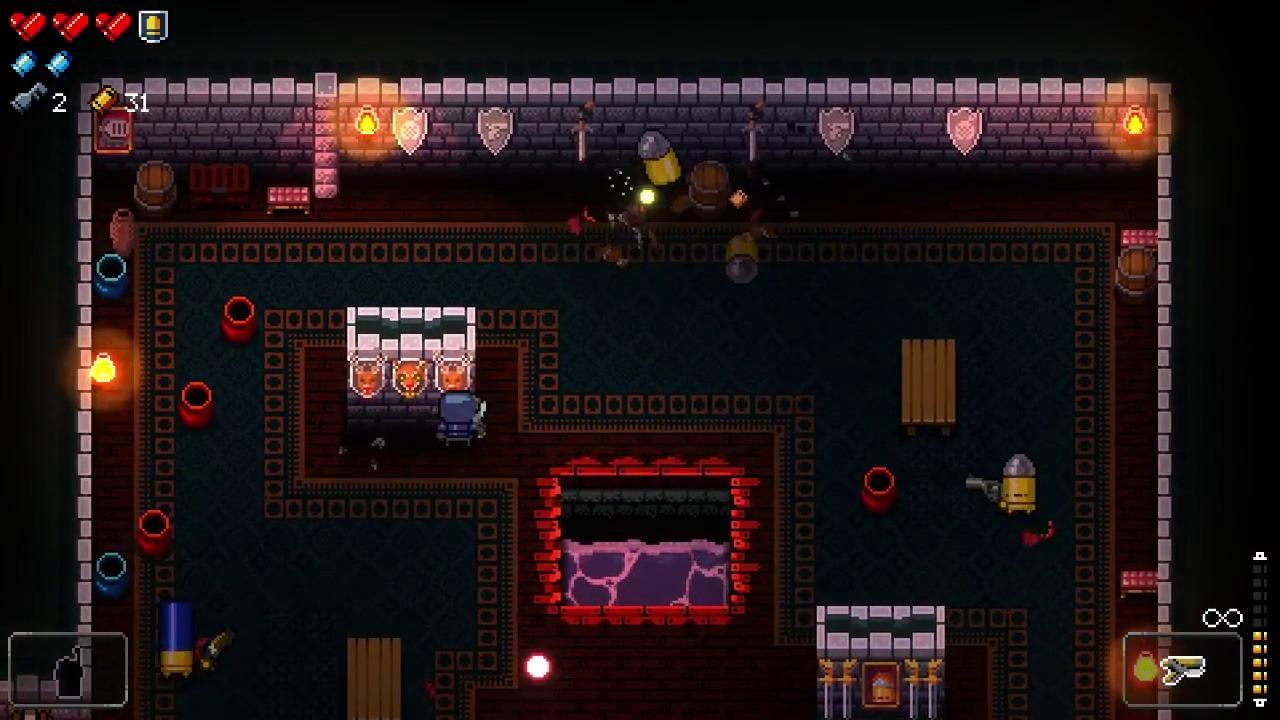blue_shotgun_kin: (158, 599, 196, 679)
bullet: (526, 652, 554, 682)
bullet_kin: (637, 130, 683, 186), (1002, 453, 1038, 516)
dead_bullet_kin: (729, 232, 758, 285)
player: (441, 390, 479, 449)
table: (903, 340, 957, 439), (345, 637, 403, 720)
water_pit: (531, 456, 763, 632)
